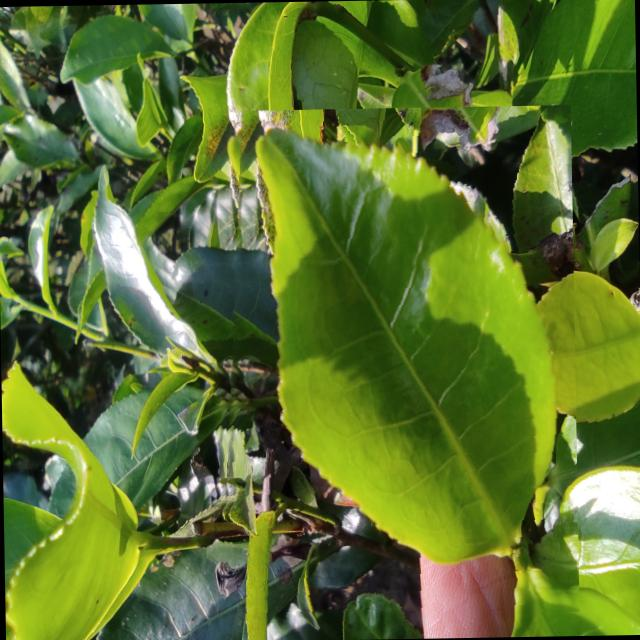Category B(2-4 days): (212, 104, 580, 622)
